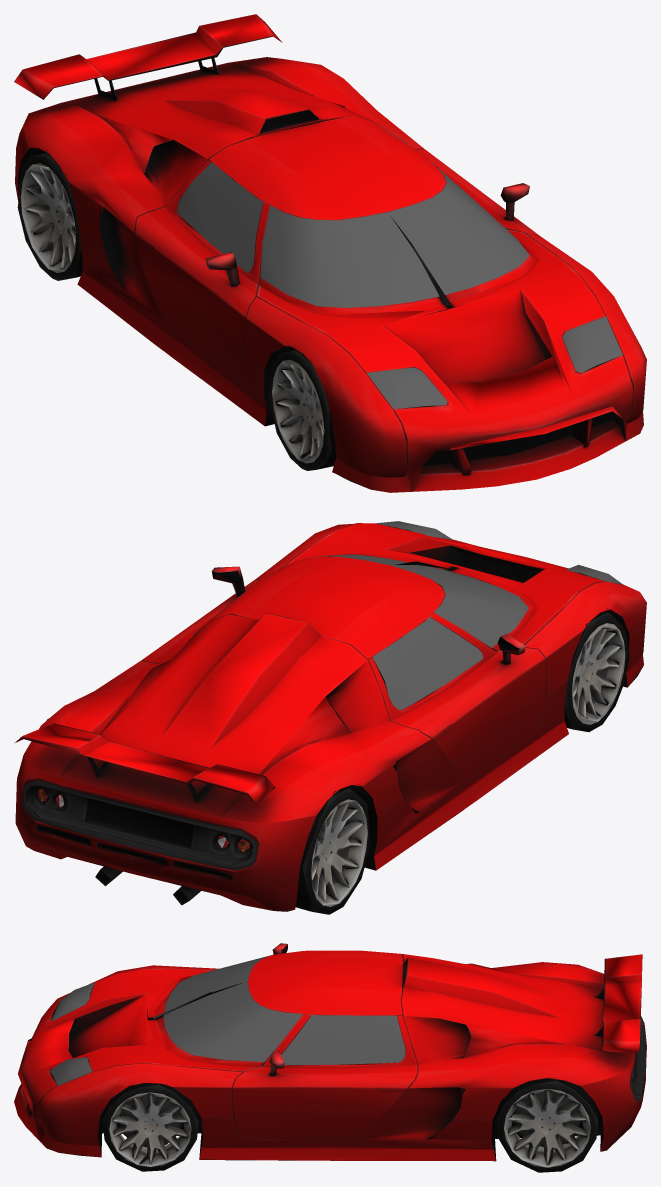
Rendered from Ferrari.glb.
The picture shows the model from 3 angles, top to bottom: view 1: azimuth 30°, elevation 25°; view 2: azimuth 150°, elevation 25°; view 3: azimuth 270°, elevation 25°; orthographic projection. The views are drawn at different scales.
Parts seen in each view (by area): view 1: Sport body, Wheel_H003, Wheel_H002; view 2: Sport body, Wheel_H003, Wheel_H002; view 3: Sport body, Wheel_H001, Wheel_H.
Boxes of the visible parts, <box> form: Sport body: <box>14,14,646,492</box>; Wheel_H003: <box>17,152,82,280</box>; Wheel_H002: <box>269,349,335,470</box>; Sport body: <box>14,521,646,911</box>; Wheel_H003: <box>295,788,370,914</box>; Wheel_H002: <box>564,611,628,732</box>; Sport body: <box>14,943,646,1161</box>; Wheel_H001: <box>496,1078,598,1172</box>; Wheel_H: <box>102,1084,198,1171</box>.
Size of the model in its own units: 7.26 by 4.29 by 16.1.
Materials: 4 (3 with a texture image).
